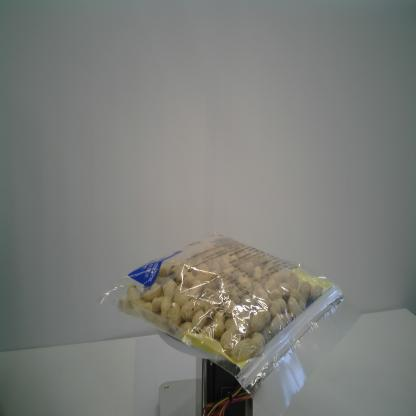Dried Food: (95, 232, 363, 411)
